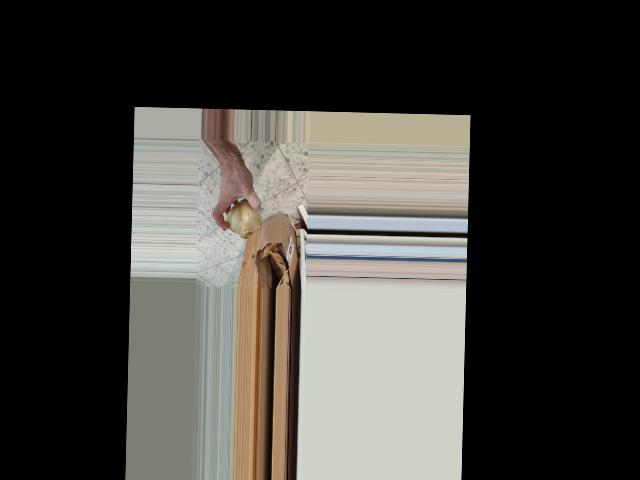onion: (224, 195, 263, 240)
